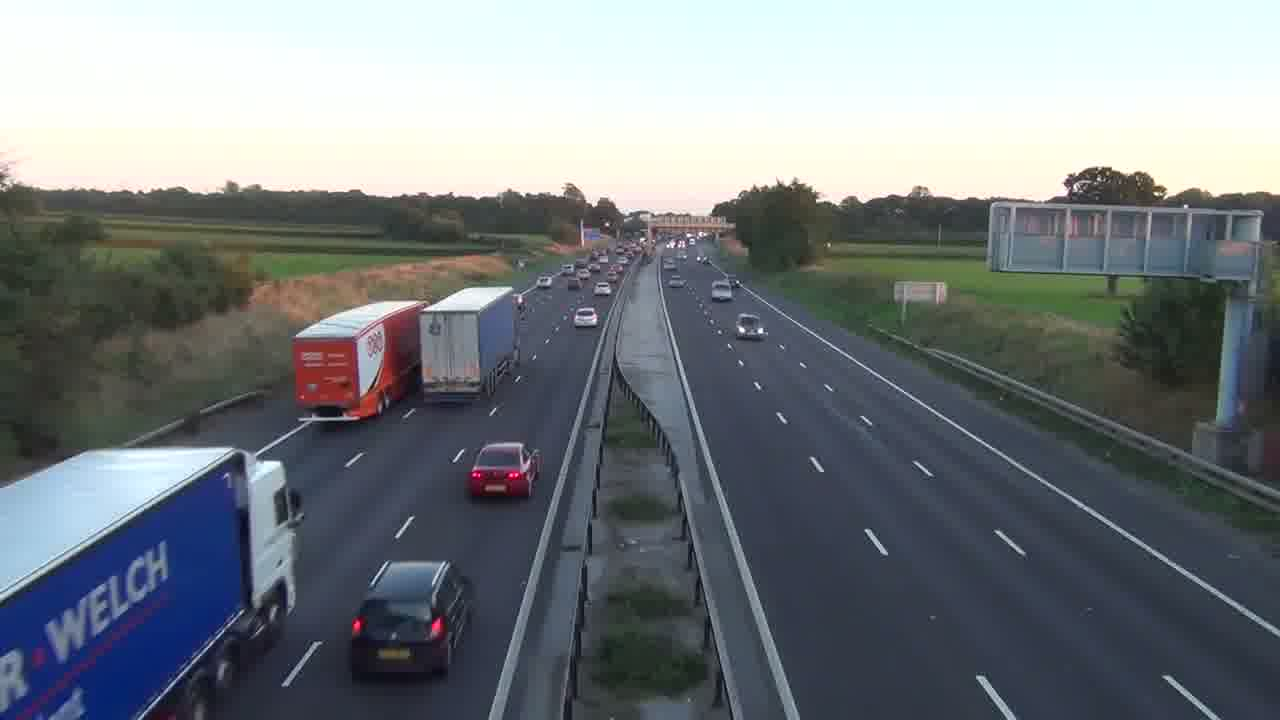car: (349, 559, 474, 679), (465, 441, 543, 499), (735, 312, 767, 341), (572, 306, 598, 328), (710, 280, 733, 302)
truck: (0, 445, 304, 715), (419, 284, 517, 404)
